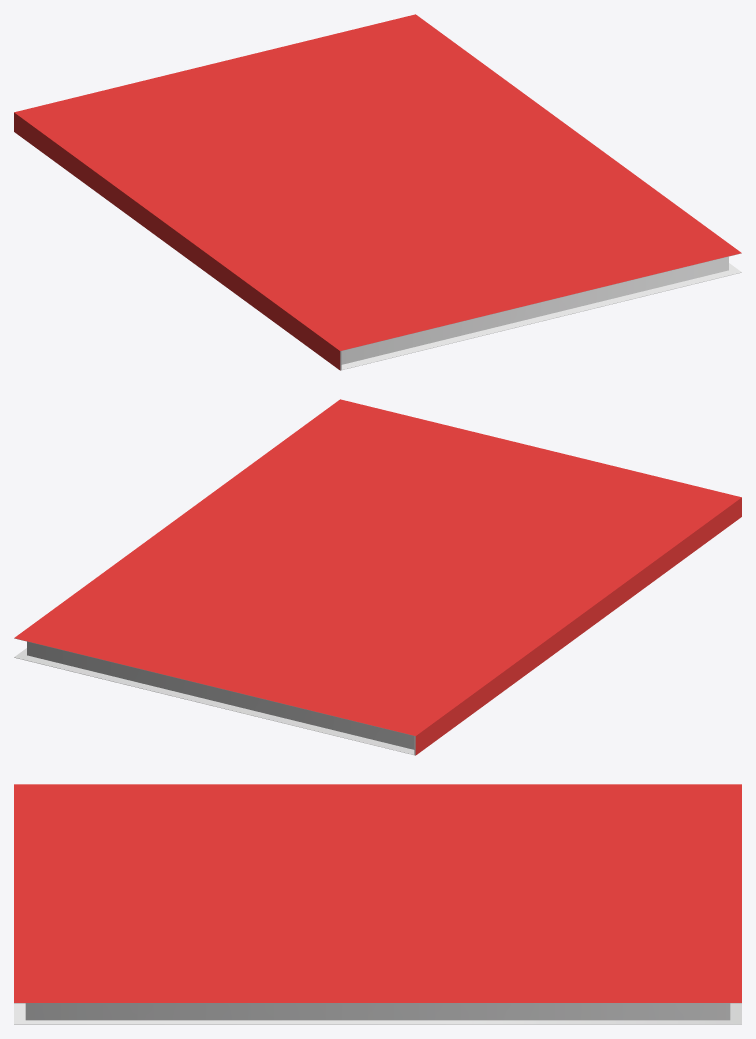
File: Book_04.fbx
3 renders of one model, top to bottom at view 1: azimuth 30°, elevation 25°; view 2: azimuth 150°, elevation 25°; view 3: azimuth 270°, elevation 25°, orthographic. The views are drawn at different scales.
Parts seen in each view (by area): view 1: Book_04; view 2: Book_04; view 3: Book_04.
Boxes of the visible parts, x1,y1,x2,y2 form: Book_04: [14, 14, 741, 370]; Book_04: [14, 399, 741, 755]; Book_04: [14, 784, 741, 1024].
Bounding box in the file's own units: 21.61 × 1 × 30.4.
